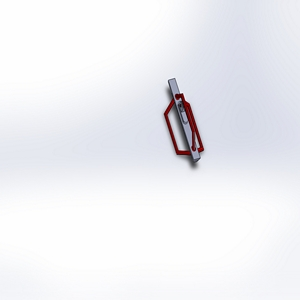submarine: (147, 70, 214, 173)
